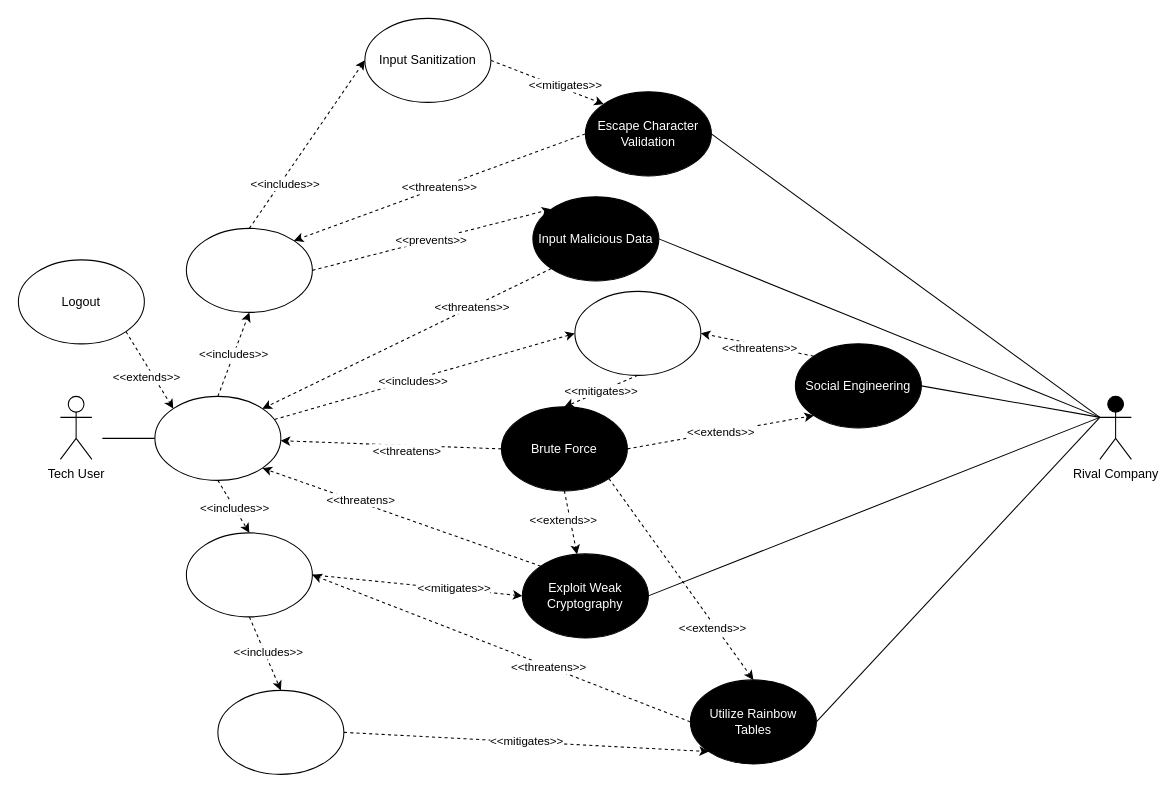
Some shapes in this 1176 by 793 pixel diagram are drawn without their labels. Each missing label, with the box of its shape:
Input Validation: (185, 227, 312, 312)
Login: (154, 395, 281, 480)
Password Hashing: (185, 532, 312, 617)
Password Salt: (217, 689, 344, 774)
Use MFA Authentication: (574, 290, 701, 375)
